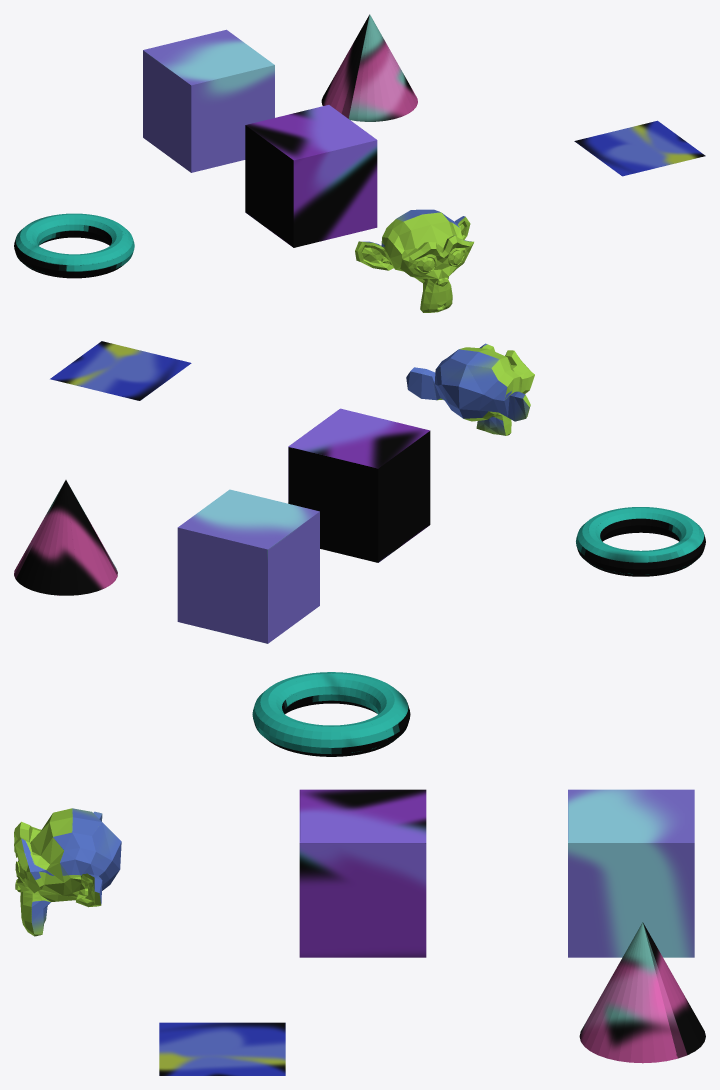
The model's file is things.obj.
The picture shows the model from 3 angles, top to bottom: view 1: azimuth 30°, elevation 25°; view 2: azimuth 150°, elevation 25°; view 3: azimuth 270°, elevation 25°; orthographic projection. The views are drawn at different scales.
Parts seen in each view (by area): view 1: Cube, Cube.001, Suzanne, Cone, Torus, Grid; view 2: Cube.001, Cube, Suzanne, Cone, Torus, Grid; view 3: Cube, Cube.001, Cone, Torus, Suzanne, Grid.
Boxes of the visible parts, <box> form: Cube: <box>245,105,377,247</box>; Cube.001: <box>143,29,274,172</box>; Suzanne: <box>355,209,473,312</box>; Cone: <box>321,14,417,121</box>; Torus: <box>14,213,134,278</box>; Grid: <box>574,120,705,176</box>; Cube.001: <box>177,489,319,643</box>; Cube: <box>288,408,430,562</box>; Suzanne: <box>406,343,534,435</box>; Cone: <box>14,480,117,595</box>; Torus: <box>576,507,705,576</box>; Grid: <box>50,341,191,400</box>; Cube: <box>299,789,426,957</box>; Cube.001: <box>568,789,694,957</box>; Cone: <box>579,922,705,1063</box>; Torus: <box>252,672,410,756</box>; Suzanne: <box>14,808,121,936</box>; Grid: <box>159,1022,285,1075</box>.
Size of the model in its own units: 14.78 by 2 by 10.95.
Materials: 6 (6 with a texture image).
